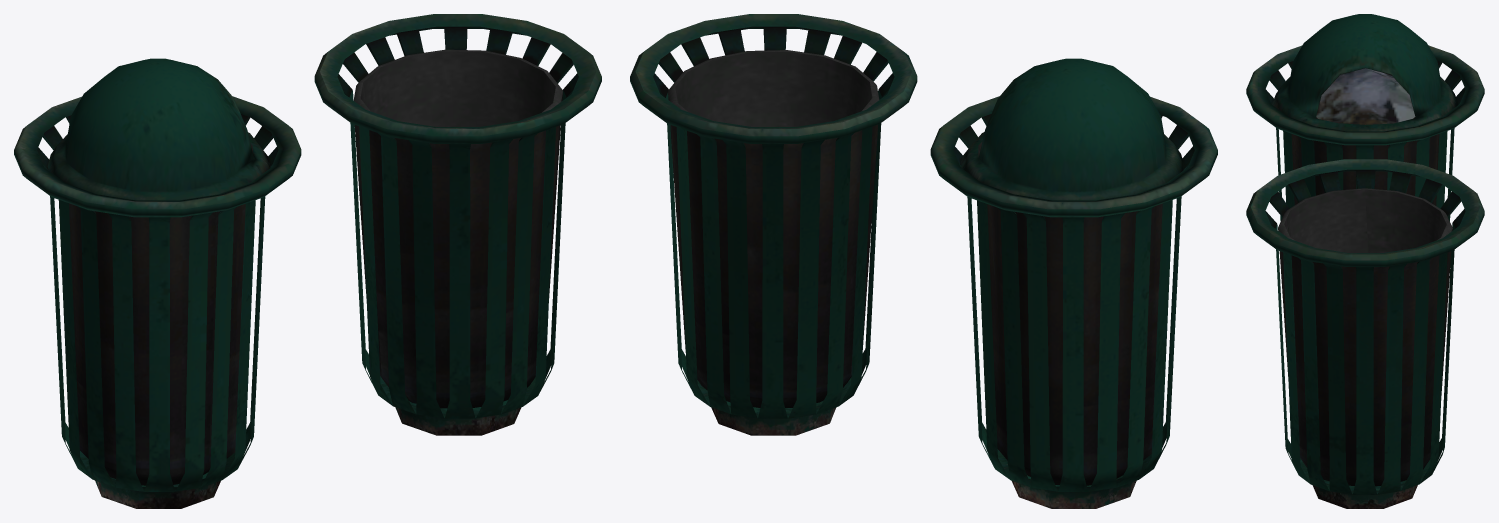
The model's file is trashcans.glb.
3 views of the same model, side by side, from view 1: azimuth 30°, elevation 25°; view 2: azimuth 150°, elevation 25°; view 3: azimuth 270°, elevation 25° (orthographic). The views are drawn at different scales.
Parts seen in each view (by area): view 1: trashcan_indoor001a_reference.smd_0, trashcan_indoor001b_reference.smd_1; view 2: trashcan_indoor001a_reference.smd_0, trashcan_indoor001b_reference.smd_1; view 3: trashcan_indoor001b_reference.smd_1, trashcan_indoor001a_reference.smd_0.
Boxes of the visible parts, x1,y1,x2,y2 form: trashcan_indoor001a_reference.smd_0: (14,58,301,508); trashcan_indoor001b_reference.smd_1: (314,14,601,435); trashcan_indoor001a_reference.smd_0: (930,58,1217,508); trashcan_indoor001b_reference.smd_1: (630,14,917,435); trashcan_indoor001b_reference.smd_1: (1246,159,1484,508); trashcan_indoor001a_reference.smd_0: (1246,14,1484,221).
Size of the model in its own units: 1.43 by 1.04 by 0.6507.
Materials: 1 (1 with a texture image).
